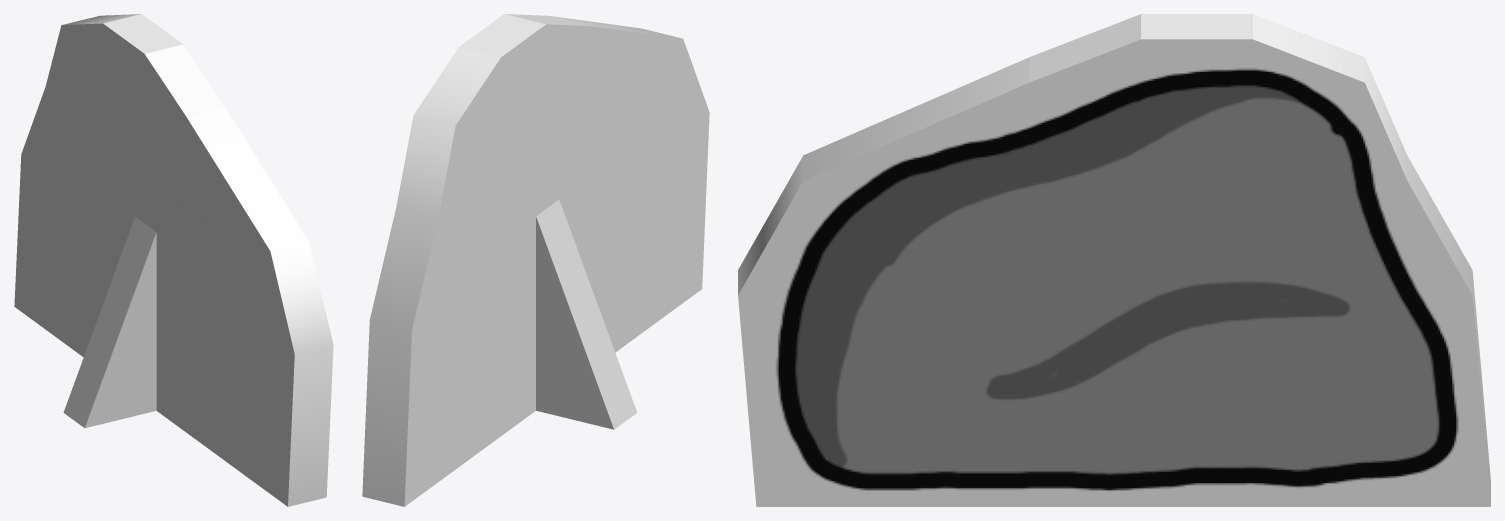
File: rock.fbx
3 views of the same model, side by side, from view 1: azimuth 30°, elevation 25°; view 2: azimuth 150°, elevation 25°; view 3: azimuth 270°, elevation 25° (orthographic). The views are drawn at different scales.
Visible parts, largest first — view 1: pCube8, pCube28; view 2: pCube8, pCube28; view 3: pCube8.
Part boxes in pixels (x1,y1,x2,y2): pCube8: (14, 14, 333, 506); pCube28: (63, 217, 156, 427); pCube8: (362, 14, 709, 506); pCube28: (536, 199, 637, 429); pCube8: (738, 14, 1490, 506).
Bounding box in the file's own units: 1.5 × 4.51 × 6.59.
